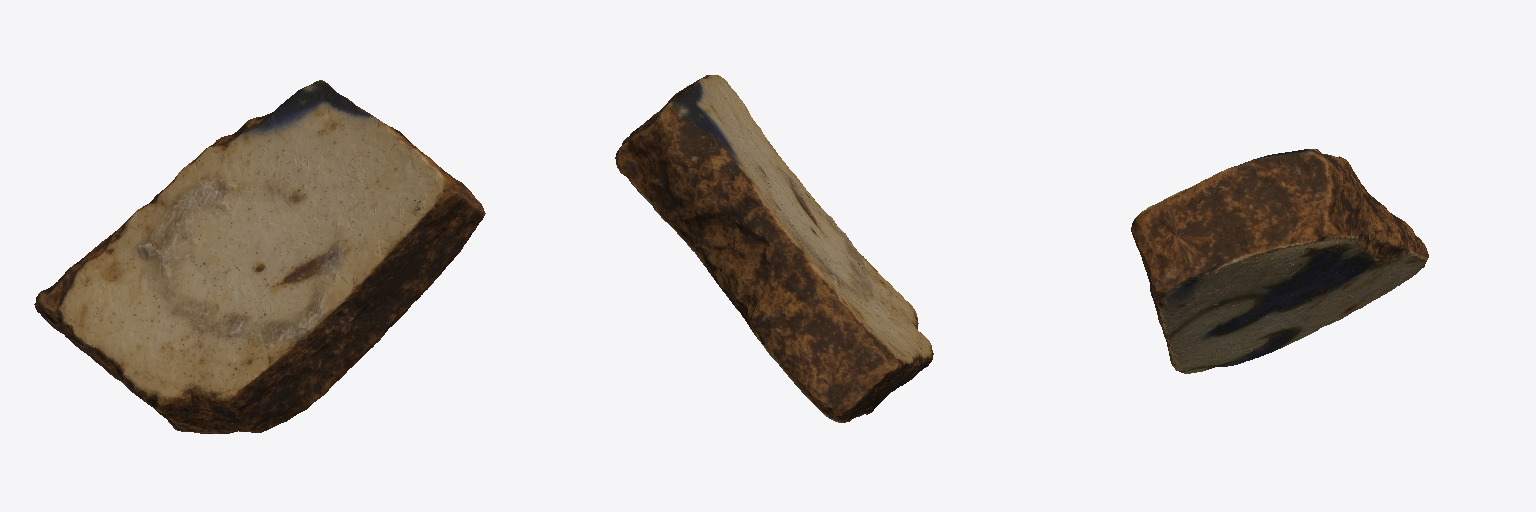
The picture shows the model from 3 angles: view 1: azimuth 30°, elevation 25°; view 2: azimuth 150°, elevation 25°; view 3: azimuth 270°, elevation 25°; orthographic projection.
Parts seen in each view (by area): view 1: Model; view 2: Model; view 3: Model.
Boxes of the visible parts, x1=… form: Model: x1=34, y1=80, x2=485, y2=433; Model: x1=615, y1=75, x2=933, y2=422; Model: x1=1131, y1=149, x2=1428, y2=373.
Bounding box in the file's own units: 0.152 × 0.1232 × 0.115.
Materials: 1 (1 with a texture image).